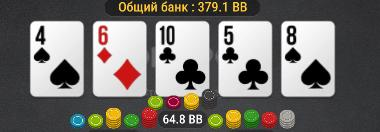10c: (157, 23, 207, 94)
4s: (32, 23, 81, 96)
5c: (220, 23, 271, 96)
6d: (95, 23, 145, 95)
8s: (283, 23, 334, 96)
